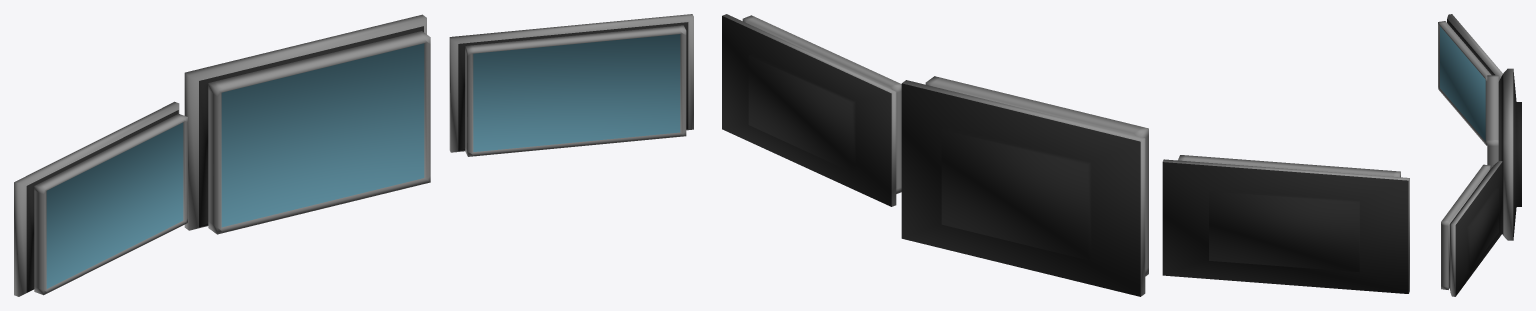
The model's file is ScreensControls.fbx.
3 renders of one model, left to right at view 1: azimuth 30°, elevation 25°; view 2: azimuth 150°, elevation 25°; view 3: azimuth 270°, elevation 25°, orthographic. The views are drawn at different scales.
Visible parts, largest first — view 1: Cube.004; view 2: Cube.004; view 3: Cube.004.
Part boxes in pixels (left/top/right/bottom): Cube.004: left=14, top=14, right=693, bottom=296; Cube.004: left=722, top=14, right=1409, bottom=296; Cube.004: left=1438, top=14, right=1521, bottom=296.
Size of the model in its own units: 1447 by 314 by 242.
